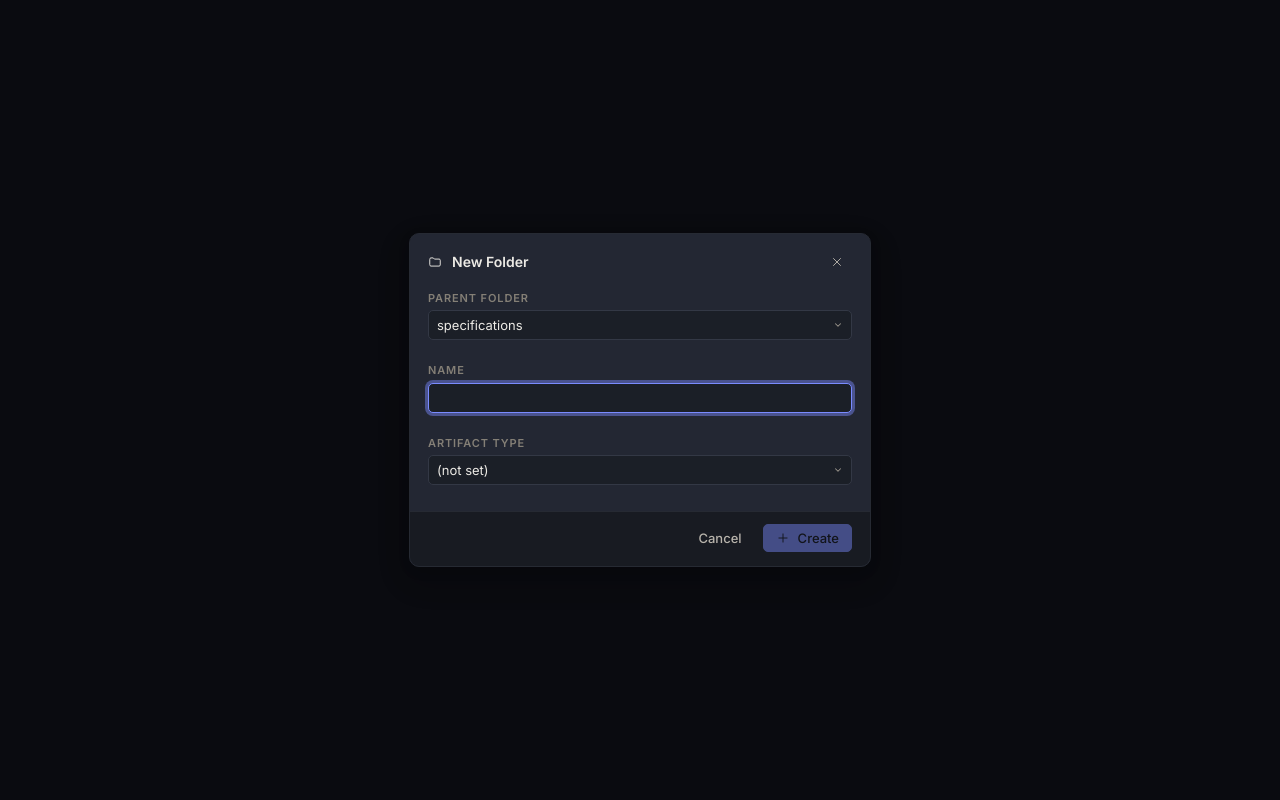
New Folder modal (NFW-new-folder.md) › NFW-FR-13: shows a creation failure inline and keeps the inputs
Step 1. Type "scenarios" into the field labelled "Name" → (640, 398), box [428, 383, 852, 413]
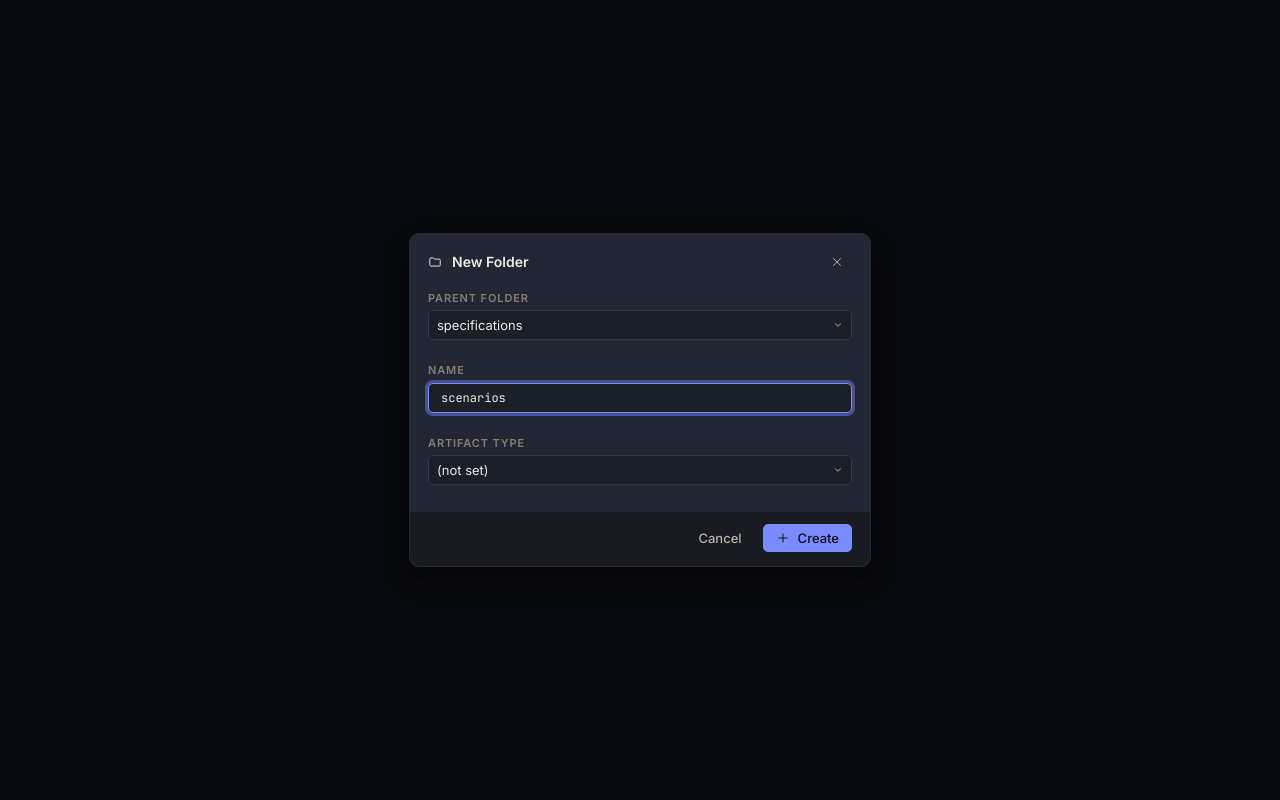
Step 2. Select "Spec" in the dropdown labelled "Artifact Type" → (640, 470), box [428, 455, 852, 485]
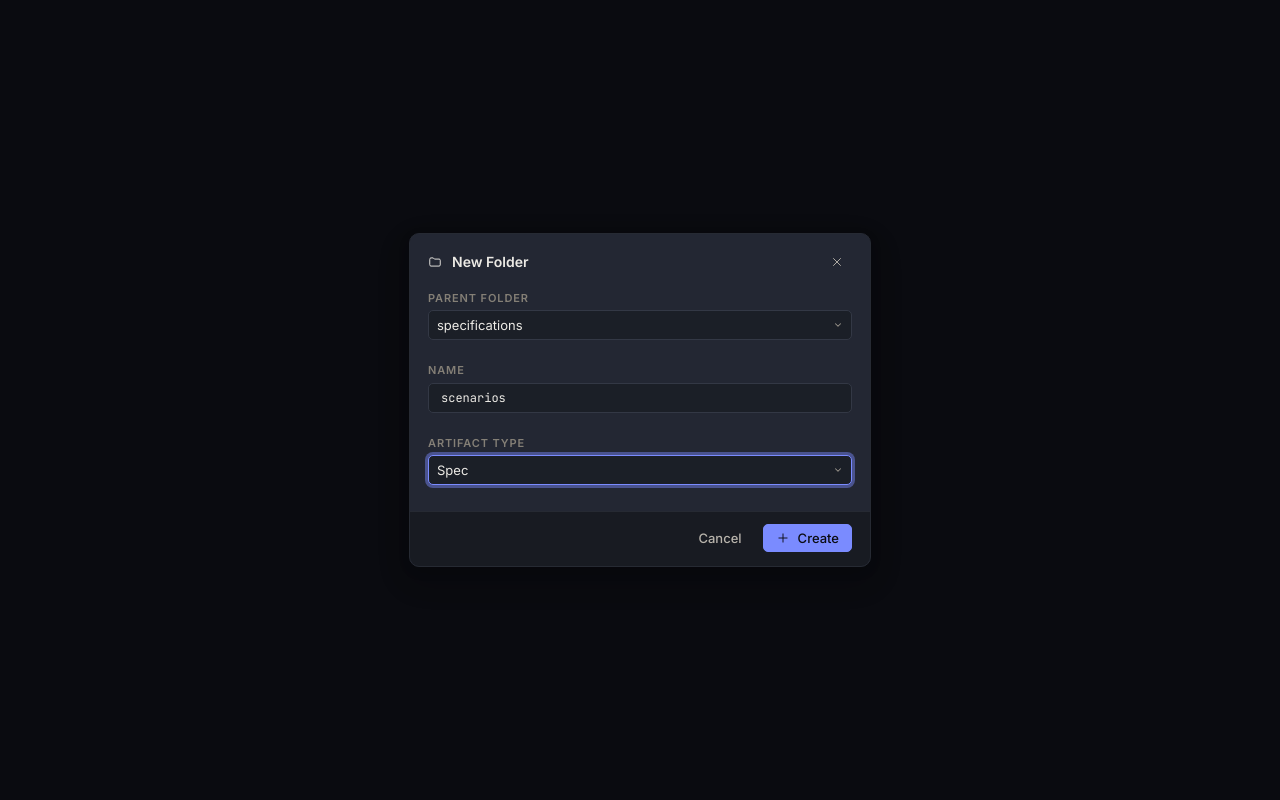
Step 3. Click the button "Create" → (807, 538), box [763, 524, 852, 552]
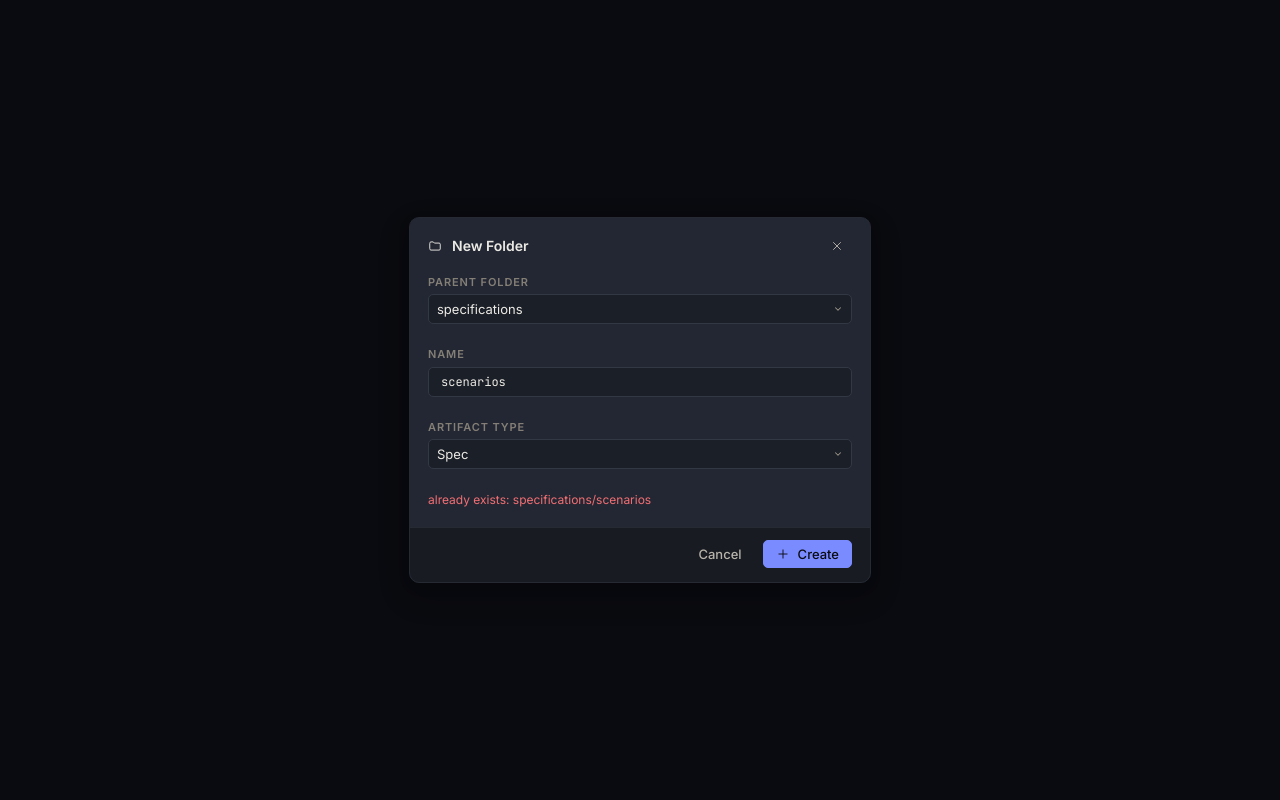
Expected: the dropdown labelled "Parent Folder" shows "specifications", [428, 294, 852, 324]
Expected: the button "Create" is enabled, [763, 540, 852, 568]
Expected: the message shows "already exists", [428, 492, 651, 507]
